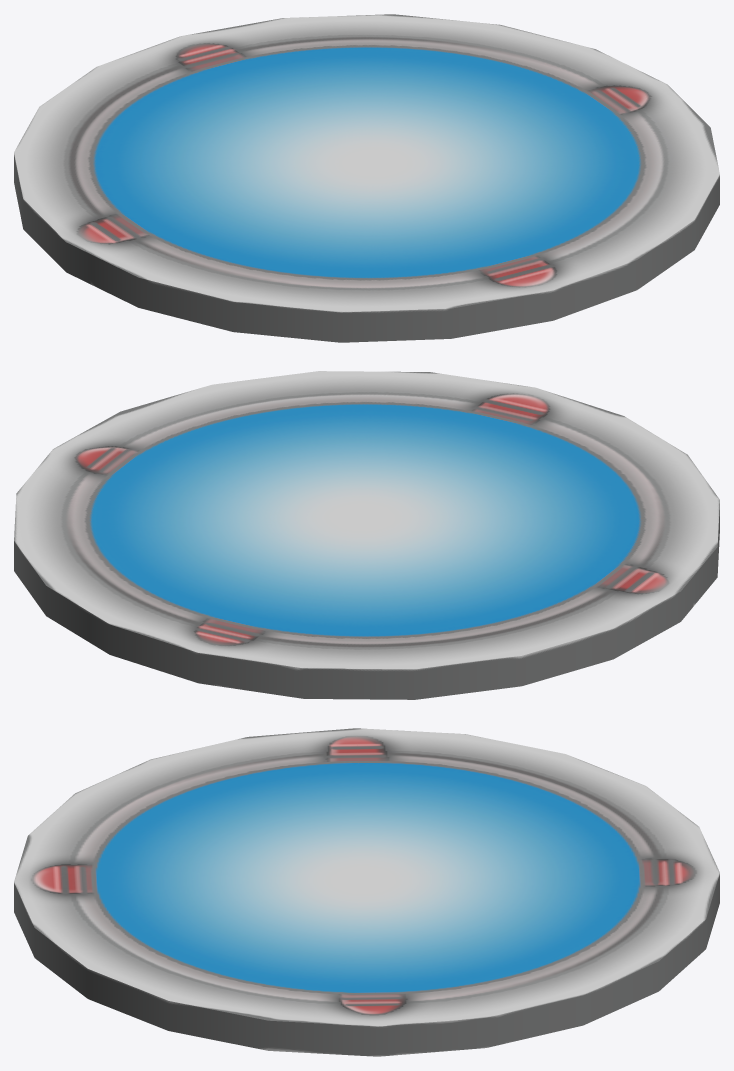
File: Teleporternew.fbx
3 renders of one model, top to bottom at view 1: azimuth 30°, elevation 25°; view 2: azimuth 150°, elevation 25°; view 3: azimuth 270°, elevation 25°, orthographic.
Parts seen in each view (by area): view 1: pCylinder1; view 2: pCylinder1; view 3: pCylinder1.
Part boxes in pixels (x1,y1,x2,y2): pCylinder1: (14, 14, 719, 342); pCylinder1: (14, 371, 719, 699); pCylinder1: (14, 728, 719, 1056).
Bounding box in the file's own units: 110 × 5.19 × 110.
